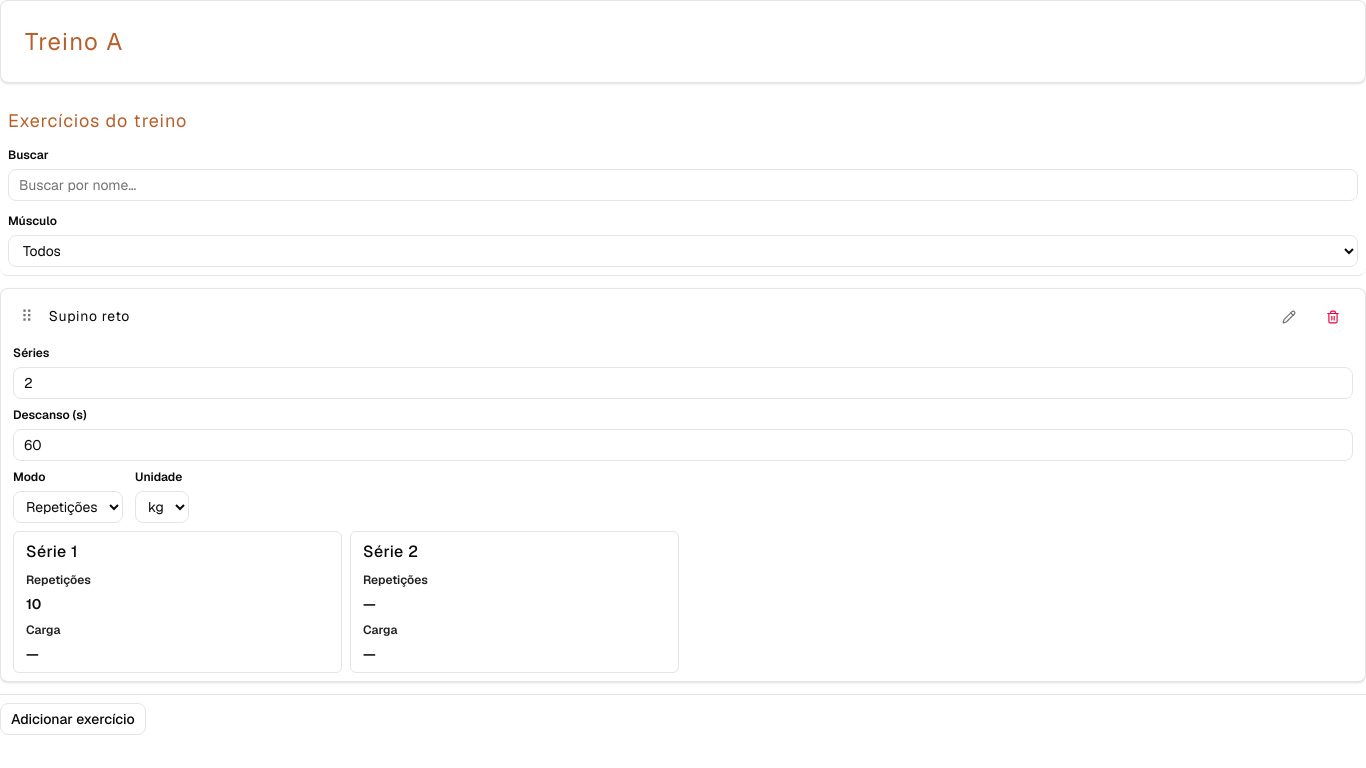
WorkoutDetailSection — paridade do replano (TASK-001 — RED) › com flag: modal não oferece escolha de unidade (2ª volta: unidade herdada, sem botões kg/lb)
Press the mouse on the text "Série 1" at (52, 552), box [26,541,78,562]
Wait 500 ms
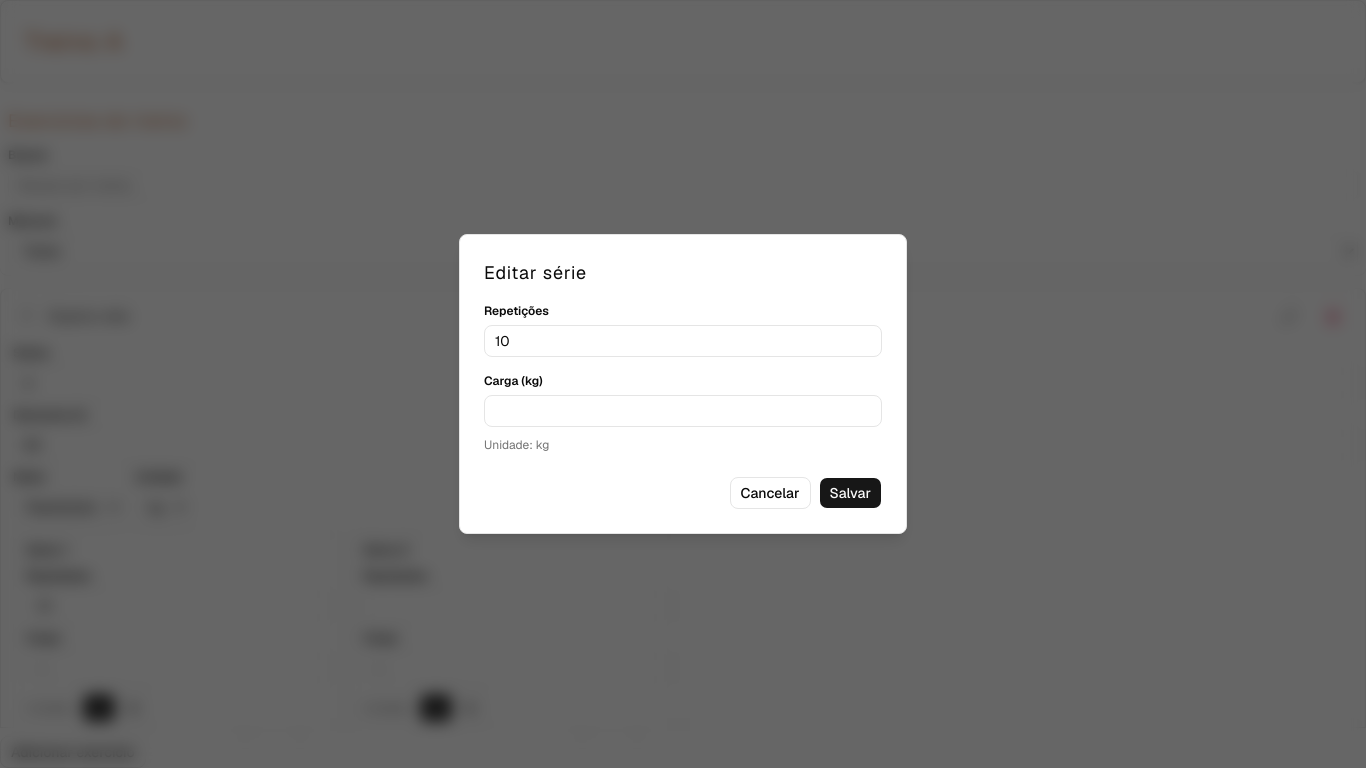
Now the button "Salvar" is shown, box [818,477,882,509]
